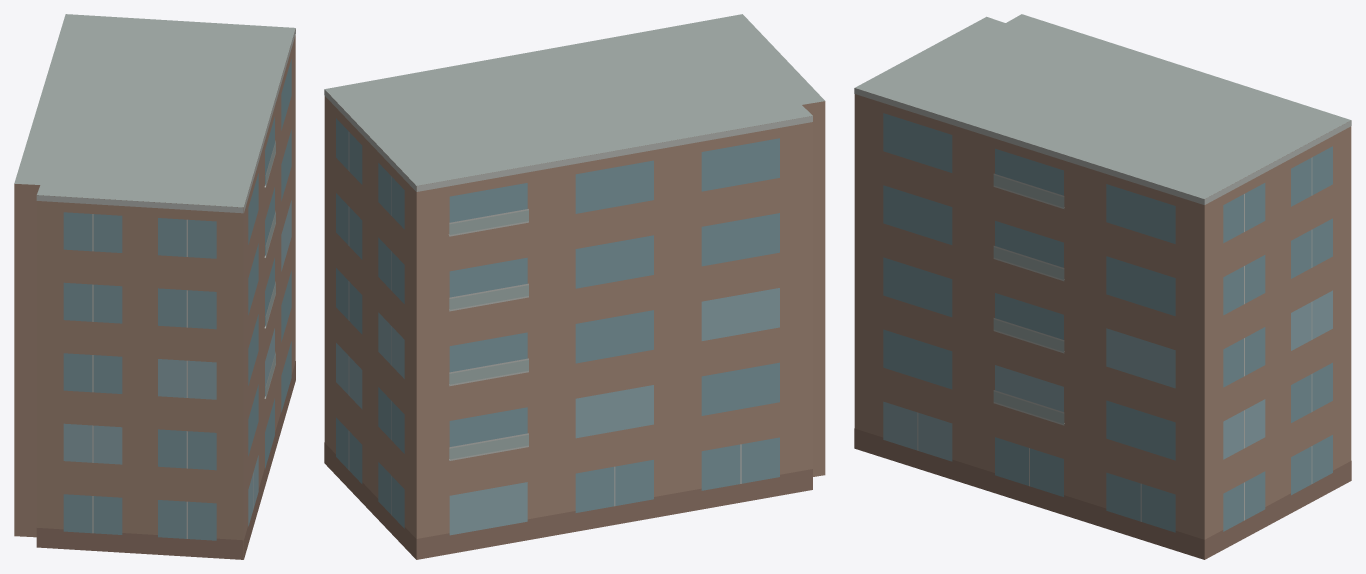
File: survey-upis-32923640.glb
3 renders of one model, left to right at view 1: azimuth 30°, elevation 25°; view 2: azimuth 150°, elevation 25°; view 3: azimuth 270°, elevation 25°, orthographic. The views are drawn at different scales.
Visible parts, largest first — view 1: survey-upis-32923640.tmp; view 2: survey-upis-32923640.tmp; view 3: survey-upis-32923640.tmp.
Part boxes in pixels (x1,y1,x2,y2): survey-upis-32923640.tmp: (14, 14, 295, 559); survey-upis-32923640.tmp: (324, 14, 825, 559); survey-upis-32923640.tmp: (854, 14, 1351, 559).
Bounding box in the file's own units: 16.2 × 14.7 × 18.36.
